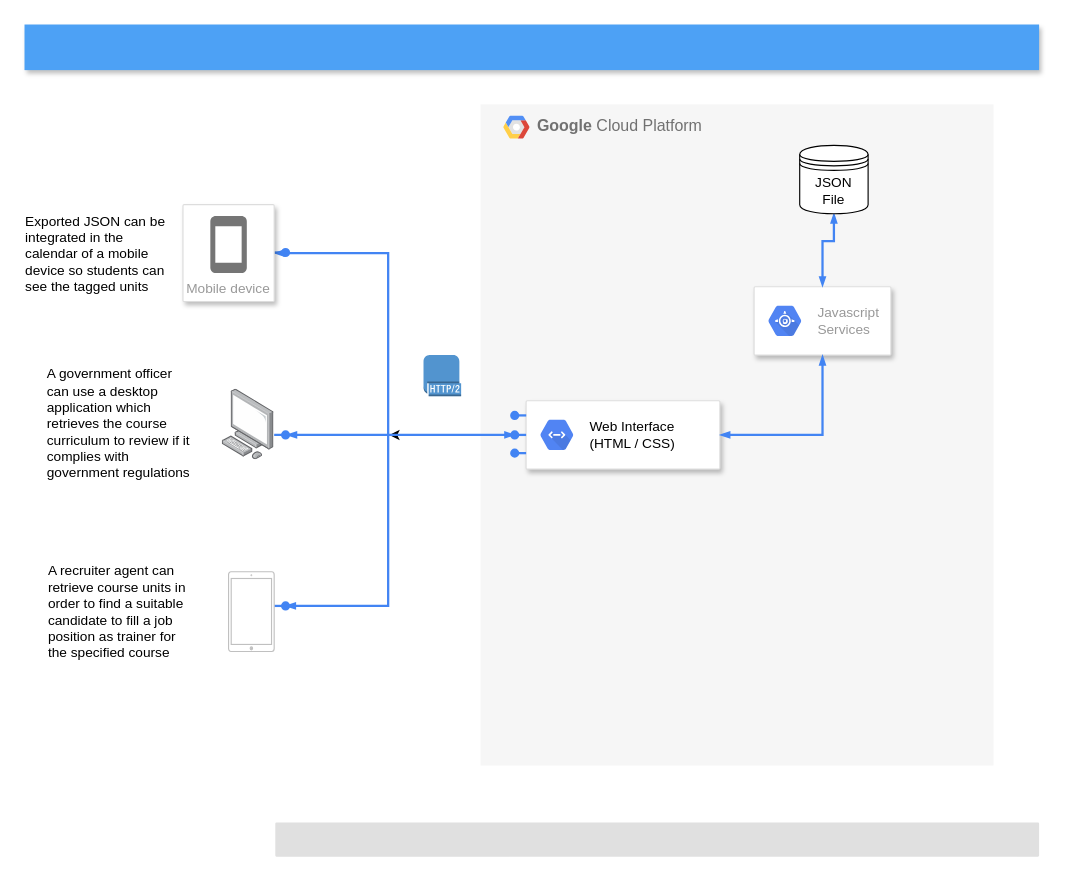
Image size: 1065x876. Some labels were removed from this diagram. The shapes that lost their labels are listed below. From the top down, each one's centre as x and y in pixels, then its label:
the point at 532,48: Infrastructure diagram for ICTPRG604 cloud service
the point at 441,375: HTTP request to retrieve JSON
